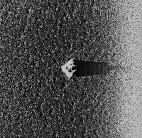mine: (60, 58, 123, 79)
